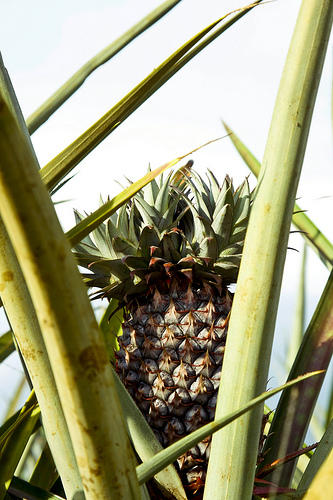pineapple: (60, 157, 282, 498)
